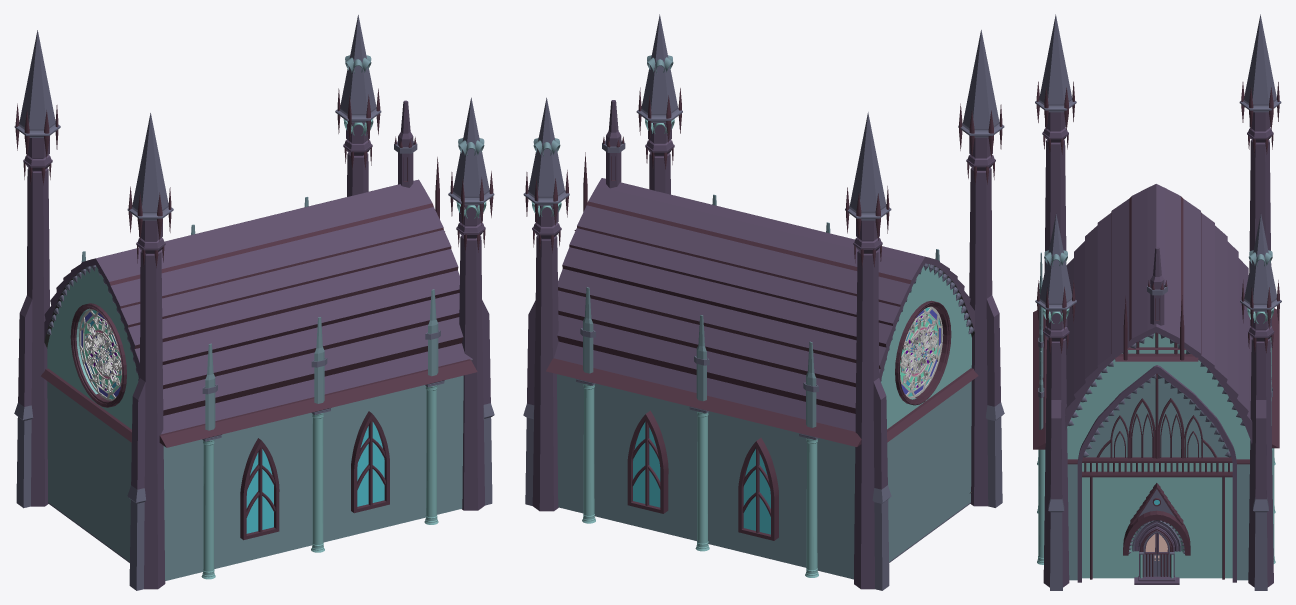
Rendered from gothic.obj.
3 renders of one model, left to right at view 1: azimuth 30°, elevation 25°; view 2: azimuth 150°, elevation 25°; view 3: azimuth 270°, elevation 25°, orthographic. The views are drawn at different scales.
Parts seen in each view (by area): view 1: Cube.660, Cylinder.593, Cube.394, Cylinder.606, Cylinder.572, Cube.393, Cube.659, Cube.672, Cube.674, Cylinder.601, Cone.125, Cone.138 (+13 smaller); view 2: Cube.528, Cylinder.606, Cube.394, Cylinder.593, Cylinder.560, Cube.658, Cube.393, Cube.673, Cube.675, Cylinder.601, Cone.138, Cone.125 (+13 smaller); view 3: Cube.529, Cube.395, Cube.528, Cube.660, Cylinder.572, Cylinder.560, Cylinder.593, Cylinder.606, Cone.125, Cone.138, Cone.001, Cone.026 (+16 smaller).
Boxes of the visible parts, left/top/right/bottom form: Cube.660: left=95, top=179, right=472, bottom=580; Cylinder.593: left=127, top=219, right=165, bottom=590; Cube.394: left=47, top=381, right=131, bottom=561; Cylinder.606: left=14, top=136, right=52, bottom=508; Cylinder.572: left=456, top=205, right=494, bottom=510; Cube.393: left=47, top=266, right=138, bottom=429; Cube.659: left=159, top=359, right=477, bottom=447; Cube.672: left=240, top=438, right=279, bottom=540; Cube.674: left=351, top=411, right=389, bottom=513; Cylinder.601: left=79, top=309, right=121, bottom=400; Cone.125: left=127, top=113, right=173, bottom=220; Cone.138: left=14, top=30, right=60, bottom=137; Cube.528: left=554, top=178, right=925, bottom=579; Cylinder.606: left=853, top=218, right=891, bottom=590; Cube.394: left=887, top=381, right=971, bottom=561; Cylinder.593: left=966, top=136, right=1004, bottom=507; Cylinder.560: left=523, top=205, right=561, bottom=511; Cube.658: left=546, top=358, right=861, bottom=446; Cube.393: left=881, top=264, right=971, bottom=429; Cube.673: left=627, top=410, right=668, bottom=513; Cube.675: left=738, top=437, right=778, bottom=540; Cylinder.601: left=900, top=306, right=943, bottom=398; Cone.138: left=845, top=112, right=891, bottom=220; Cone.125: left=958, top=30, right=1004, bottom=137; Cube.529: left=1067, top=333, right=1250, bottom=582; Cube.395: left=1067, top=463, right=1249, bottom=580; Cube.528: left=1156, top=184, right=1252, bottom=443; Cube.660: left=1065, top=184, right=1156, bottom=430; Cylinder.572: left=1043, top=311, right=1069, bottom=590; Cylinder.560: left=1247, top=311, right=1274, bottom=590; Cylinder.593: left=1042, top=112, right=1068, bottom=271; Cylinder.606: left=1247, top=112, right=1273, bottom=271; Cone.125: left=1035, top=14, right=1076, bottom=112; Cone.138: left=1239, top=14, right=1281, bottom=112; Cone.001: left=1240, top=214, right=1281, bottom=311; Cone.026: left=1035, top=214, right=1076, bottom=311.
Size of the model in its own units: 10.45 by 13.14 by 6.93.
